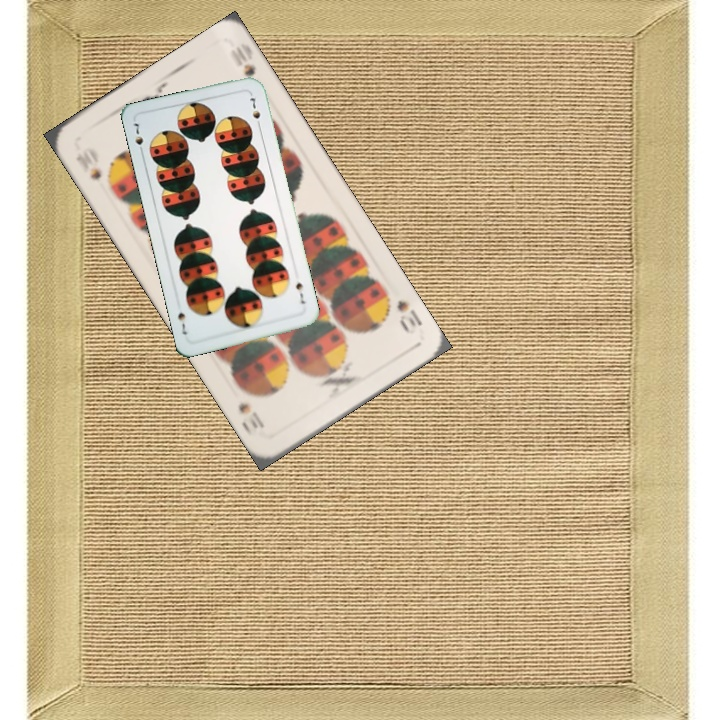S10: (393, 296, 425, 337), (71, 149, 104, 183)
S7: (129, 119, 146, 158), (291, 273, 308, 307)
